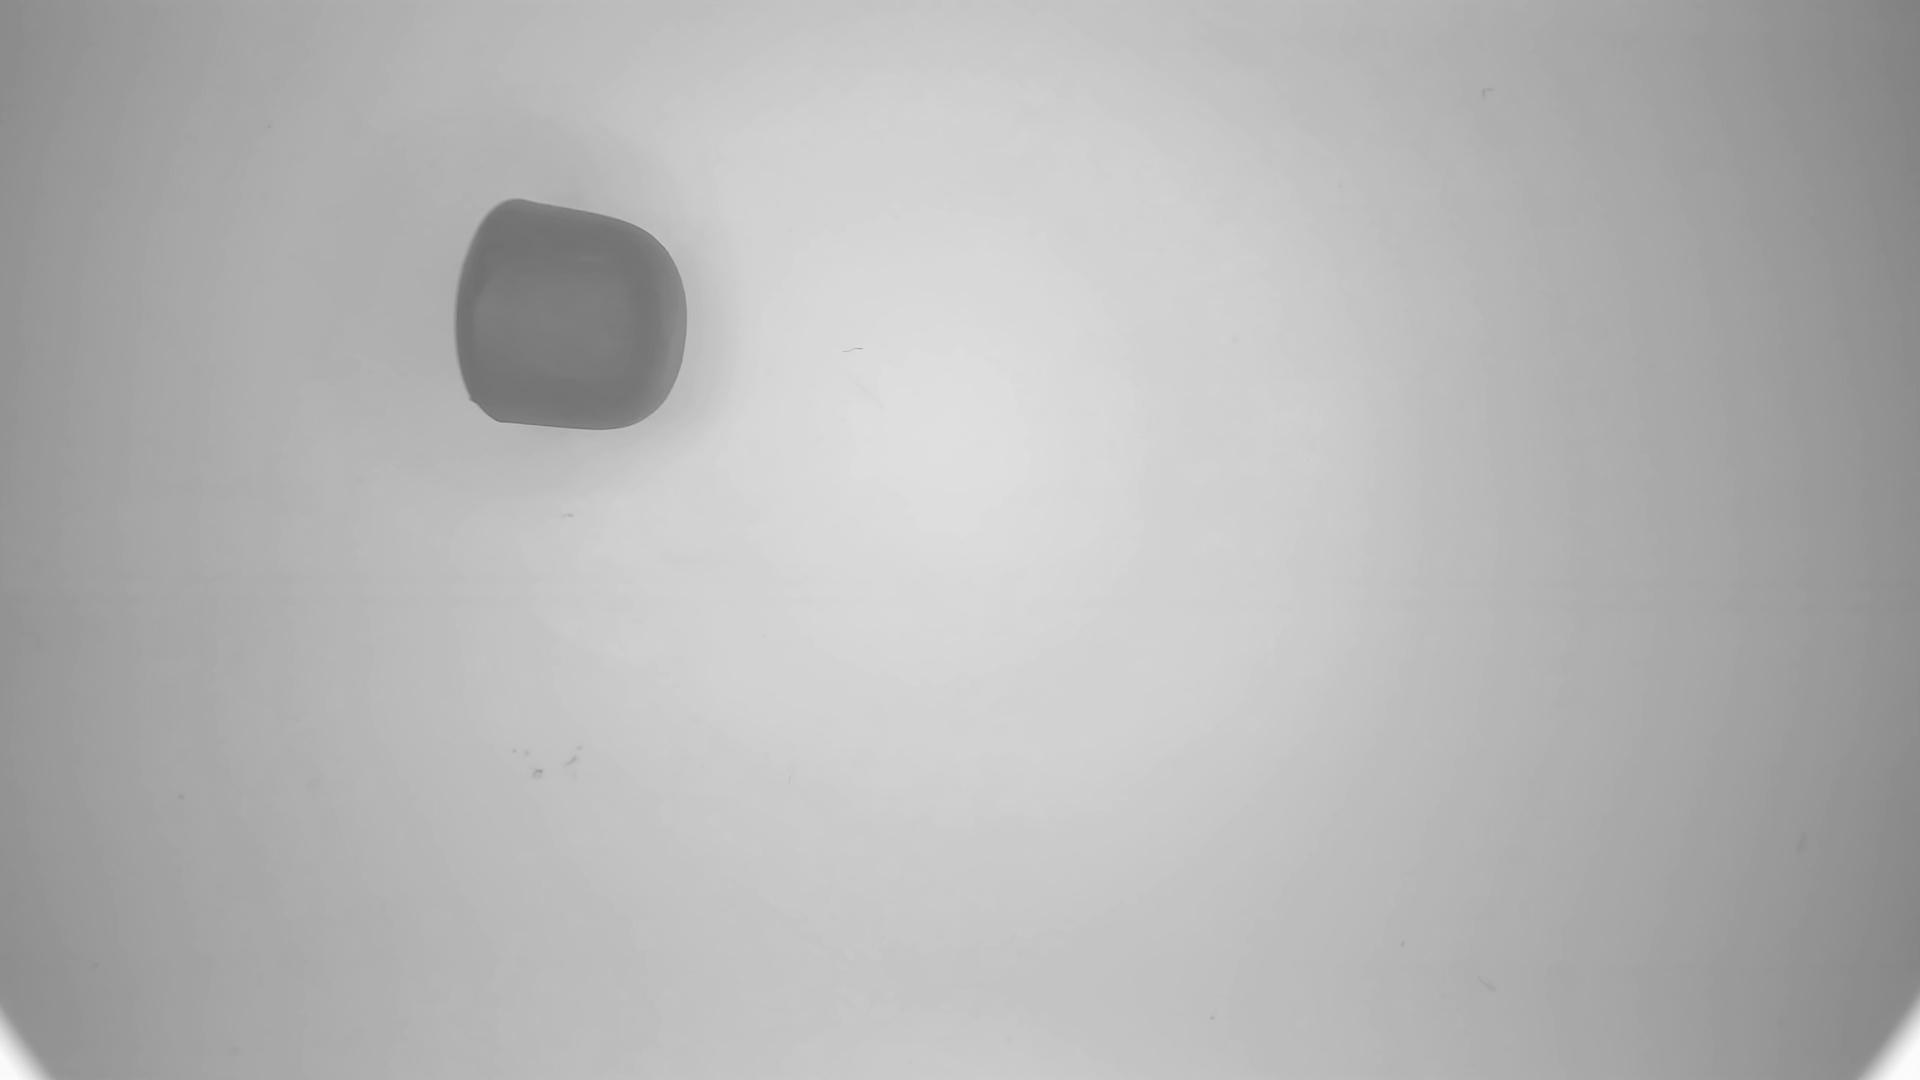normal: (454, 198, 690, 433)
